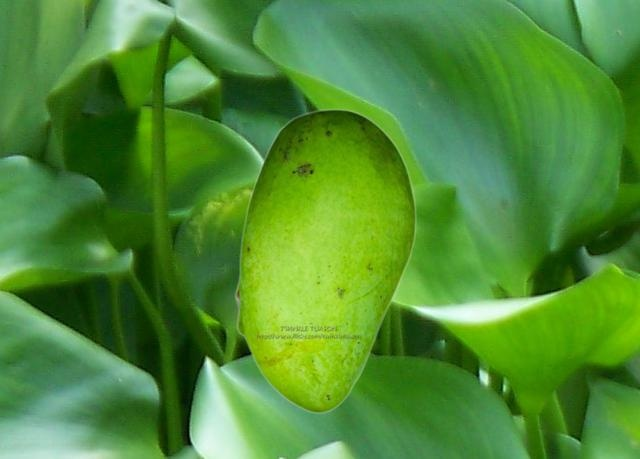green_mango: (234, 108, 416, 413)
